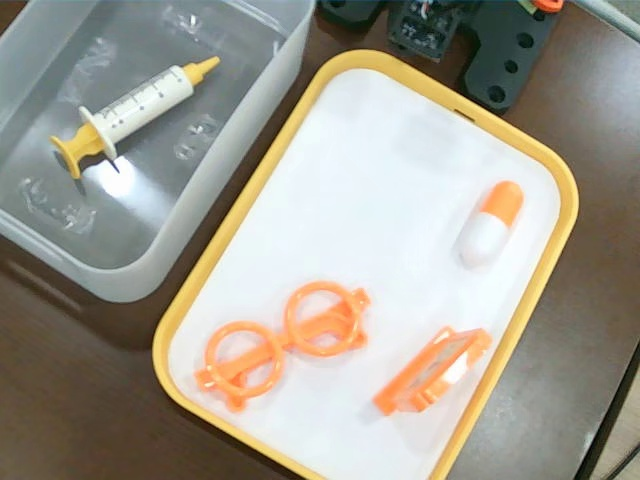pill: (460, 181, 526, 267)
syringe: (50, 55, 220, 179)
